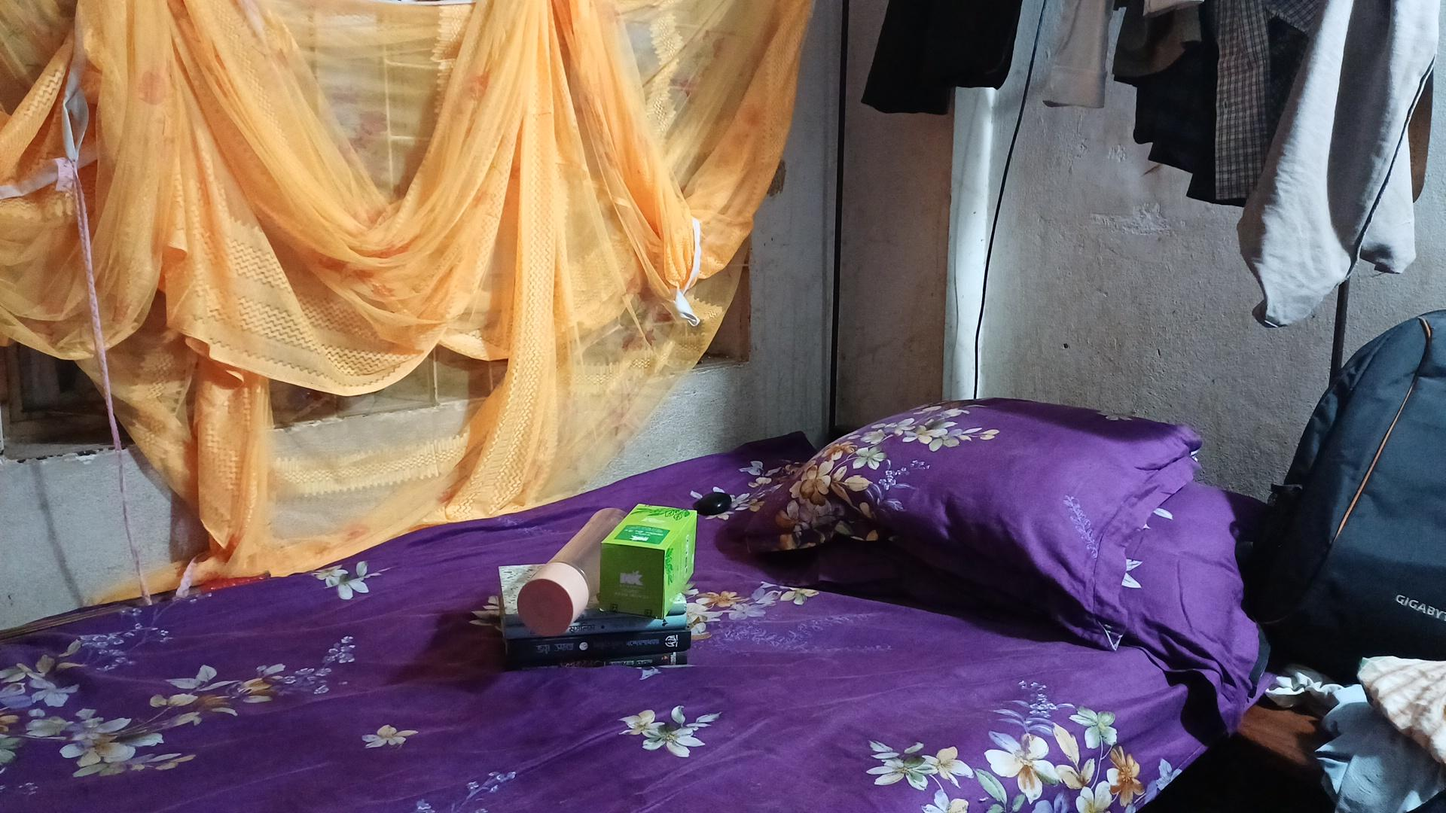Bag: (1258, 301, 1446, 668)
Book: (462, 626, 723, 671)
Bottle: (530, 499, 613, 634)
Box: (602, 491, 703, 617)
Pillow: (813, 354, 1244, 656)
